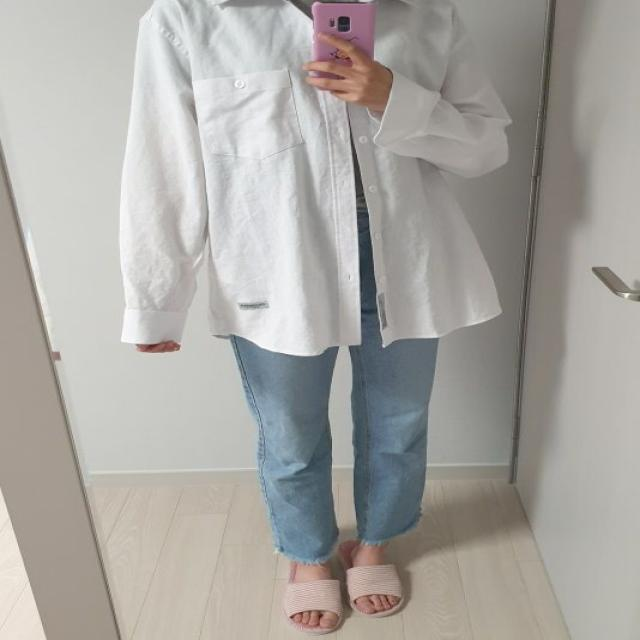denimpants: (224, 206, 443, 568)
shirt: (114, 2, 512, 352)
